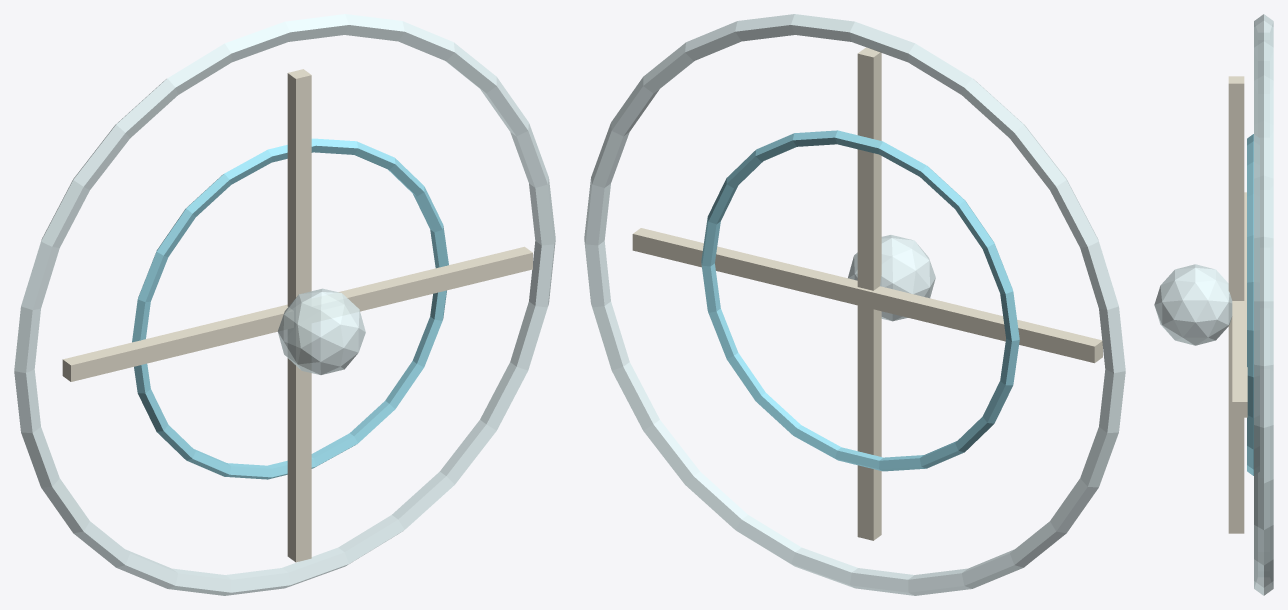
The model's file is 06_combat_flow_anchor.glb.
3 renders of one model, left to right at view 1: azimuth 30°, elevation 25°; view 2: azimuth 150°, elevation 25°; view 3: azimuth 270°, elevation 25°, orthographic. The views are drawn at different scales.
Parts seen in each view (by area): view 1: flow_outer_ring, flow_inner_ring, flow_lane_cross, flow_lane_forward, perfect_flow_core; view 2: flow_outer_ring, flow_inner_ring, flow_lane_forward, flow_lane_cross, perfect_flow_core; view 3: flow_outer_ring, flow_lane_cross, perfect_flow_core, flow_inner_ring, flow_lane_forward.
Boxes of the visible parts, x1,y1,x2,y2 form: flow_outer_ring: (14,14,555,595); flow_inner_ring: (132,138,448,479); flow_lane_cross: (287,69,311,562); flow_lane_forward: (62,246,532,381); perfect_flow_core: (277,288,365,374); flow_outer_ring: (584,14,1125,595); flow_inner_ring: (701,130,1019,471); flow_lane_forward: (632,228,1102,363); flow_lane_cross: (857,47,881,540); perfect_flow_core: (848,235,935,321); flow_outer_ring: (1254,14,1273,595); flow_lane_cross: (1228,76,1244,533); perfect_flow_core: (1154,264,1232,345); flow_inner_ring: (1247,134,1259,475); flow_lane_forward: (1232,192,1247,417).
Bounding box in the file's own units: 1.7 × 1.7 × 0.3485.
